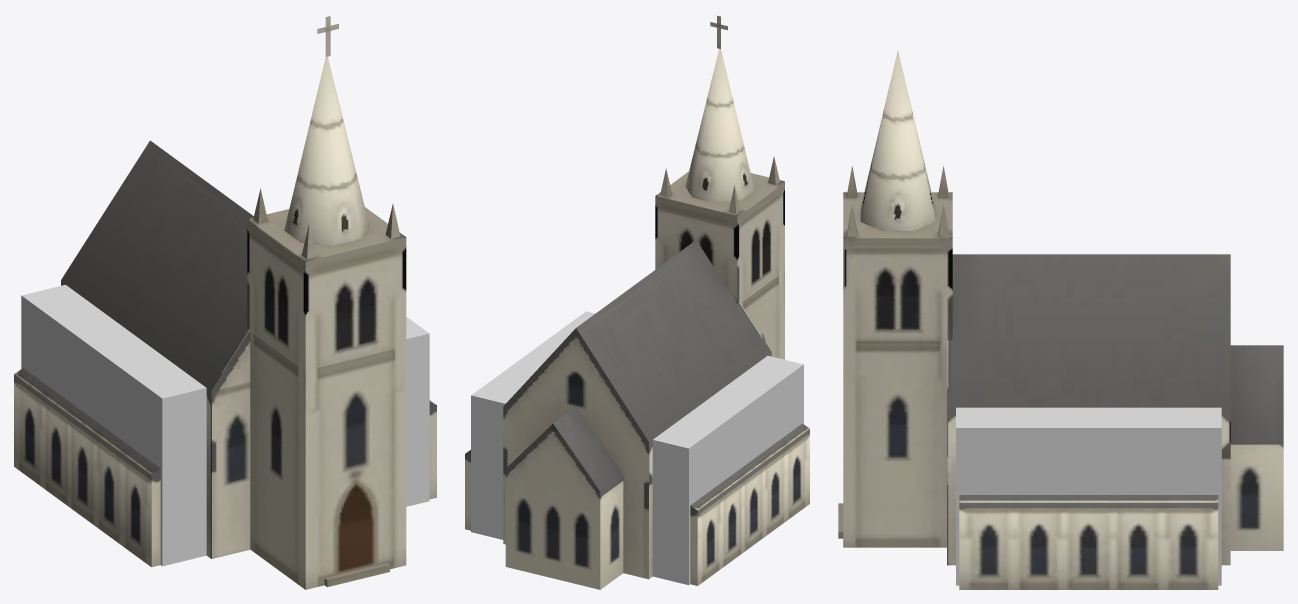
Rendered from st_marys_church.glb.
3 views of the same model, side by side, from view 1: azimuth 30°, elevation 25°; view 2: azimuth 150°, elevation 25°; view 3: azimuth 270°, elevation 25° (orthographic). The views are drawn at different scales.
Visible parts, largest first — view 1: st_marys_church_body, COL_sm; view 2: st_marys_church_body, COL_sm; view 3: st_marys_church_body, COL_sm.
Part boxes in pixels (x1,y1,x2,y2): st_marys_church_body: (14, 16, 436, 589); COL_sm: (21, 284, 429, 566); st_marys_church_body: (465, 15, 809, 589); COL_sm: (471, 311, 803, 585); st_marys_church_body: (838, 50, 1283, 589); COL_sm: (956, 407, 1221, 585).
Bounding box in the file's own units: 37.4 × 67.72 × 53.7.
2 materials, 1 textured.
